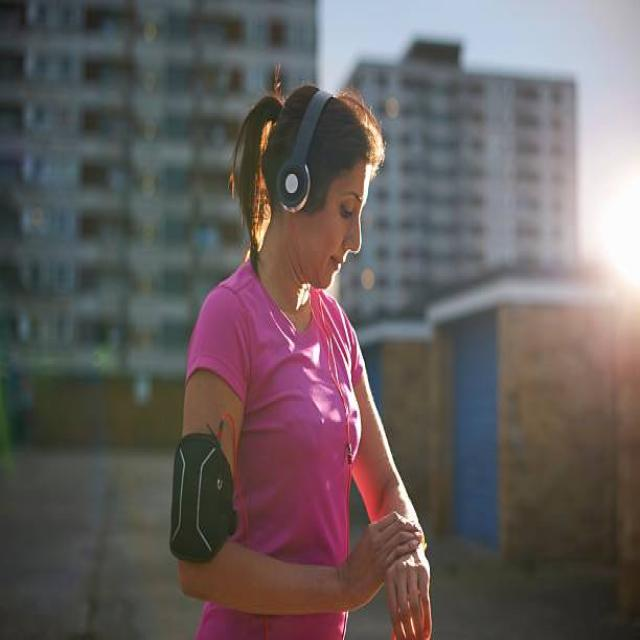Headphone: (275, 87, 337, 216)
